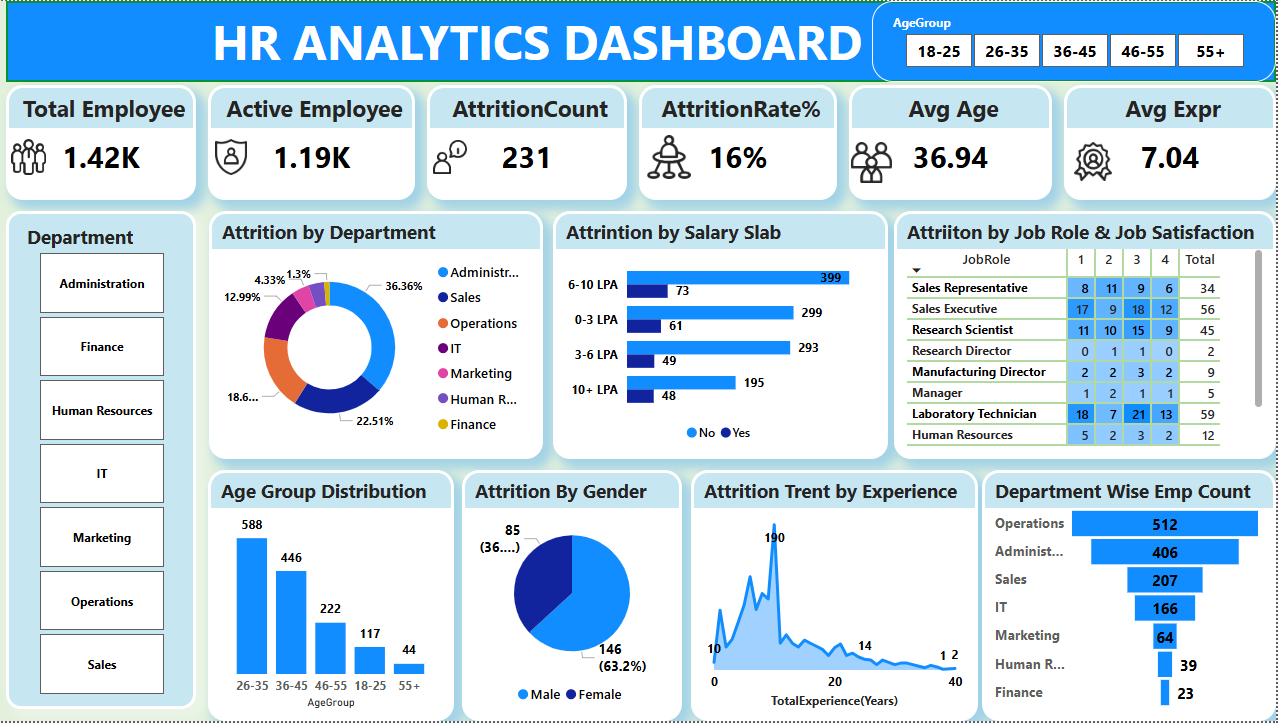

The dashboard page shown, as its layout file describes it:
{"tool":"powerbi","page":{"name":"Dashboard","canvas":[1280,720],"ordinal":0},"visuals":[{"type":"textbox","box":[10,0,1270,81.4],"z":0},{"type":"card","title":"Total Employee","fields":{"Values":["CountNonNull(HR_Analytics-4.EmpID)"]},"box":[10.3,84,189.6,114.6],"z":1000},{"type":"card","title":"Active Employee","fields":{"Values":["CountNonNull(HR_Analytics-4.EmployeeCount)"]},"box":[211.9,84,207.2,114.6],"z":2000},{"type":"card","title":"AttritionCount","fields":{"Values":["Sum(HR_Analytics-4.AttritionCount)"]},"box":[431.1,84,199.8,114.6],"z":3000},{"type":"card","title":"AttritionRate%","fields":{"Values":["HR_Analytics-4.AttritionRate%"]},"box":[643,84,198.4,114.6],"z":4000},{"type":"card","title":"Avg Age","fields":{"Values":["Avg(HR_Analytics-4.Age)"]},"box":[853.4,84,202.8,114.6],"z":5000},{"type":"card","title":"Avg Expr","fields":{"Values":["Avg(HR_Analytics-4.YearsatCompany)"]},"box":[1068.2,84,211.6,114.6],"z":6000},{"type":"donutChart","title":"Attrition by Department","fields":{"Category":["HR_Analytics-4.Department"],"Y":["Sum(HR_Analytics-4.AttritionCount)"]},"box":[213.1,209.7,333.6,248.3],"z":7000},{"type":"clusteredBarChart","title":"Attrintion by Salary Slab","fields":{"Category":["HR_Analytics-4.SalarySlab"],"Y":["CountNonNull(HR_Analytics-4.EmpID)"],"Series":["HR_Analytics-4.Attrition"]},"box":[556.9,209.7,335,248.3],"z":8000},{"type":"pivotTable","title":"Attriiton by Job Role & Job Satisfaction","fields":{"Rows":["HR_Analytics-4.JobRole"],"Columns":["HR_Analytics-4.JobSatisfaction"],"Values":["Sum(HR_Analytics-4.AttritionCount)"]},"box":[897.8,209.7,382,248.3],"z":9000},{"type":"columnChart","title":"Age Group Distribution","fields":{"Category":["HR_Analytics-4.AgeGroup"],"Y":["Sum(HR_Analytics-4.EmployeeCount)"]},"box":[211.6,468.7,246.9,251.3],"z":10000},{"type":"pieChart","title":"Attrition By Gender","fields":{"Category":["HR_Analytics-4.Gender"],"Y":["Sum(HR_Analytics-4.AttritionCount)"]},"box":[465.8,468.7,220.4,251.3],"z":11000},{"type":"areaChart","title":"Attrition Trent by  Experience ","fields":{"Category":["HR_Analytics-4.TotalExperience(Years)"],"Y2":["Sum(HR_Analytics-4.EmployeeCount)"]},"box":[695,468.7,286.5,251.3],"z":12000},{"type":"funnel","title":"Department Wise Emp Count","fields":{"Category":["HR_Analytics-4.Department"],"Y":["CountNonNull(HR_Analytics-4.EmpID)"]},"box":[986,468.7,293.9,251.3],"z":13000},{"type":"slicer","fields":{"Values":["HR_Analytics-4.Department"]},"box":[10.3,210.1,189.6,498.1],"z":14000},{"type":"slicer","fields":{"Values":["HR_Analytics-4.AgeGroup"]},"box":[875.8,0,404.1,80.8],"z":15000},{"type":"image","box":[15,138,35,36],"z":15001},{"type":"image","box":[219,128,32,56],"z":15002},{"type":"image","box":[437,128,34,56],"z":15003},{"type":"image","box":[853,141,45,41],"z":15004},{"type":"image","box":[1078,128,38,65],"z":15005},{"type":"image","box":[651,132,44,48],"z":15006}]}

Visuals, with their boxes in screenshot pixels (x1, y1, x2, y2), scaled from the page's 1280x720 canvas onto the 1279x724 screenshot:
textbox: bbox=[10, 0, 1278, 82]
"Total Employee" card: bbox=[10, 84, 200, 200]
"Active Employee" card: bbox=[212, 84, 419, 200]
"AttritionCount" card: bbox=[431, 84, 630, 200]
"AttritionRate%" card: bbox=[642, 84, 841, 200]
"Avg Age" card: bbox=[853, 84, 1055, 200]
"Avg Expr" card: bbox=[1067, 84, 1278, 200]
"Attrition by Department" donutChart: bbox=[213, 211, 546, 461]
"Attrintion by Salary Slab" clusteredBarChart: bbox=[556, 211, 891, 461]
"Attriiton by Job Role & Job Satisfaction" pivotTable: bbox=[897, 211, 1278, 461]
"Age Group Distribution" columnChart: bbox=[211, 471, 458, 723]
"Attrition By Gender" pieChart: bbox=[465, 471, 686, 723]
"Attrition Trent by  Experience " areaChart: bbox=[694, 471, 981, 723]
"Department Wise Emp Count" funnel: bbox=[985, 471, 1278, 723]
slicer - HR_Analytics-4.Department: bbox=[10, 211, 200, 712]
slicer - HR_Analytics-4.AgeGroup: bbox=[875, 0, 1278, 81]
image: bbox=[15, 139, 50, 175]
image: bbox=[219, 129, 251, 185]
image: bbox=[437, 129, 471, 185]
image: bbox=[852, 142, 897, 183]
image: bbox=[1077, 129, 1115, 194]
image: bbox=[650, 133, 694, 181]
